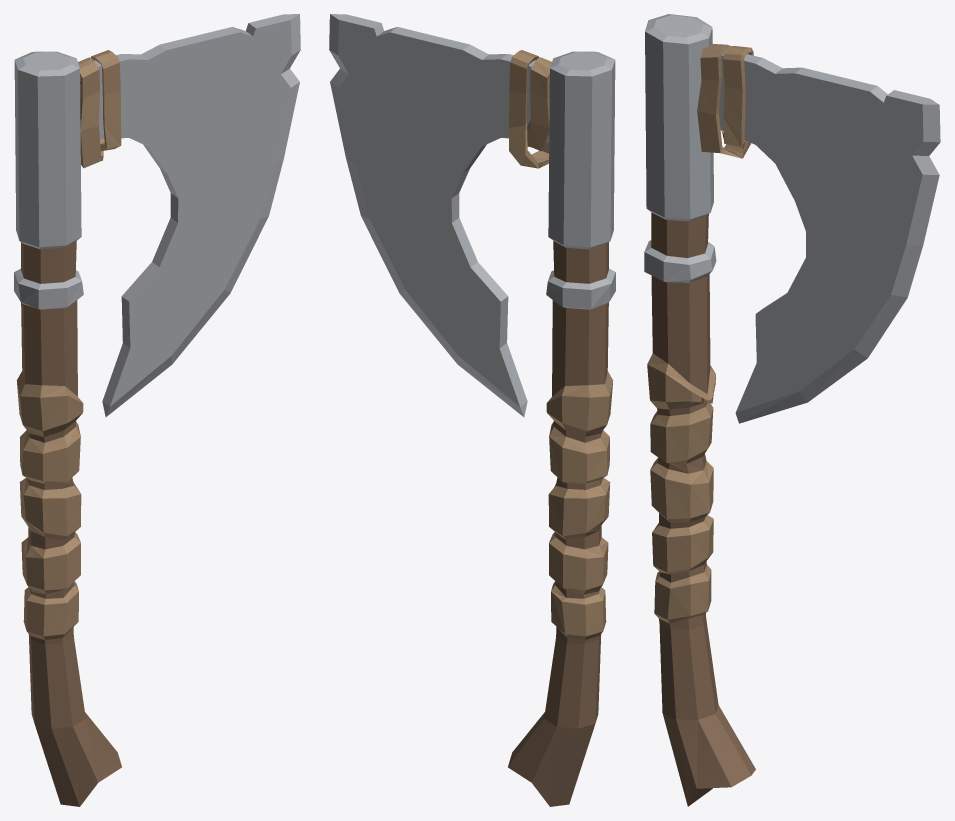
Rendered from hacha_lenador.glb.
3 renders of one model, left to right at view 1: azimuth 30°, elevation 25°; view 2: azimuth 150°, elevation 25°; view 3: azimuth 330°, elevation 25°, orthographic. The views are drawn at different scales.
Visible parts, largest first — view 1: hacha_lenador; view 2: hacha_lenador; view 3: hacha_lenador.
Boxes of the visible parts, x1=… form: hacha_lenador: x1=14, y1=14, x2=300, y2=806; hacha_lenador: x1=329, y1=14, x2=615, y2=806; hacha_lenador: x1=644, y1=14, x2=940, y2=806.
Size of the model in its own units: 1.17 by 2.96 by 0.2483.
